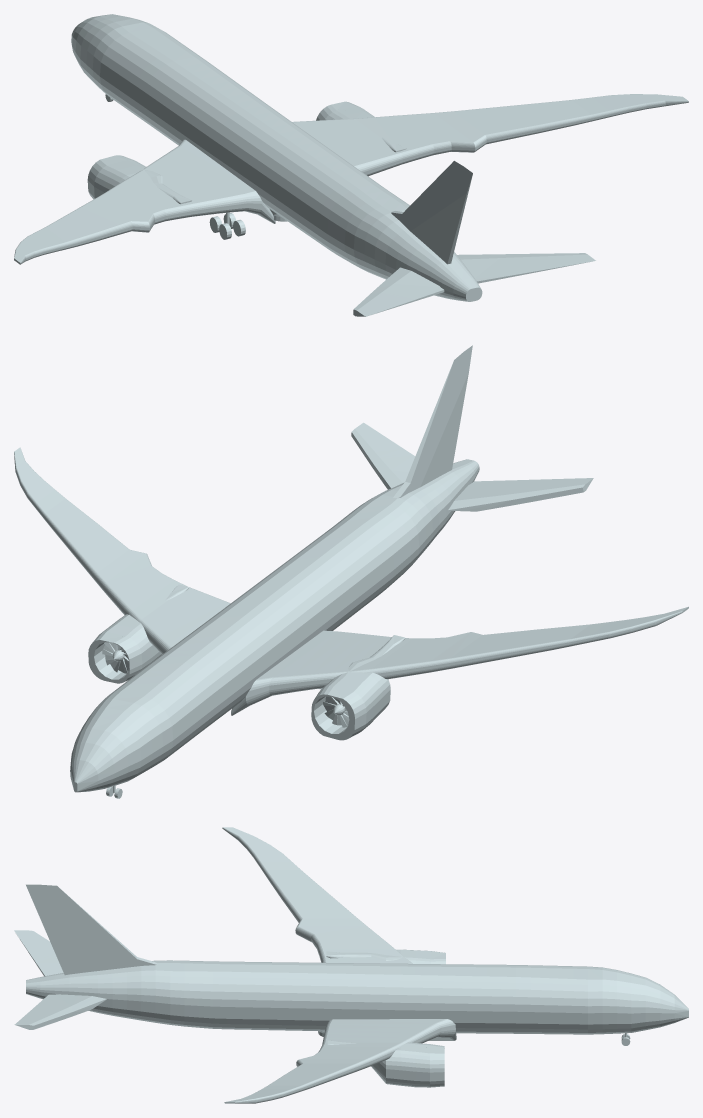
The picture shows the model from 3 angles, top to bottom: view 1: azimuth 30°, elevation 25°; view 2: azimuth 150°, elevation 25°; view 3: azimuth 270°, elevation 25°; orthographic projection. The views are drawn at different scales.
Visible parts, largest first — view 1: Aircraft visual hull, Landing gear; view 2: Aircraft visual hull; view 3: Aircraft visual hull.
Boxes of the visible parts, box(x1,y1,x2,y2) form: Aircraft visual hull: box(14, 14, 688, 316); Landing gear: box(105, 94, 245, 239); Aircraft visual hull: box(14, 345, 688, 792); Aircraft visual hull: box(14, 827, 688, 1103).
Size of the model in its own units: 60.2 by 16.36 by 62.97.
